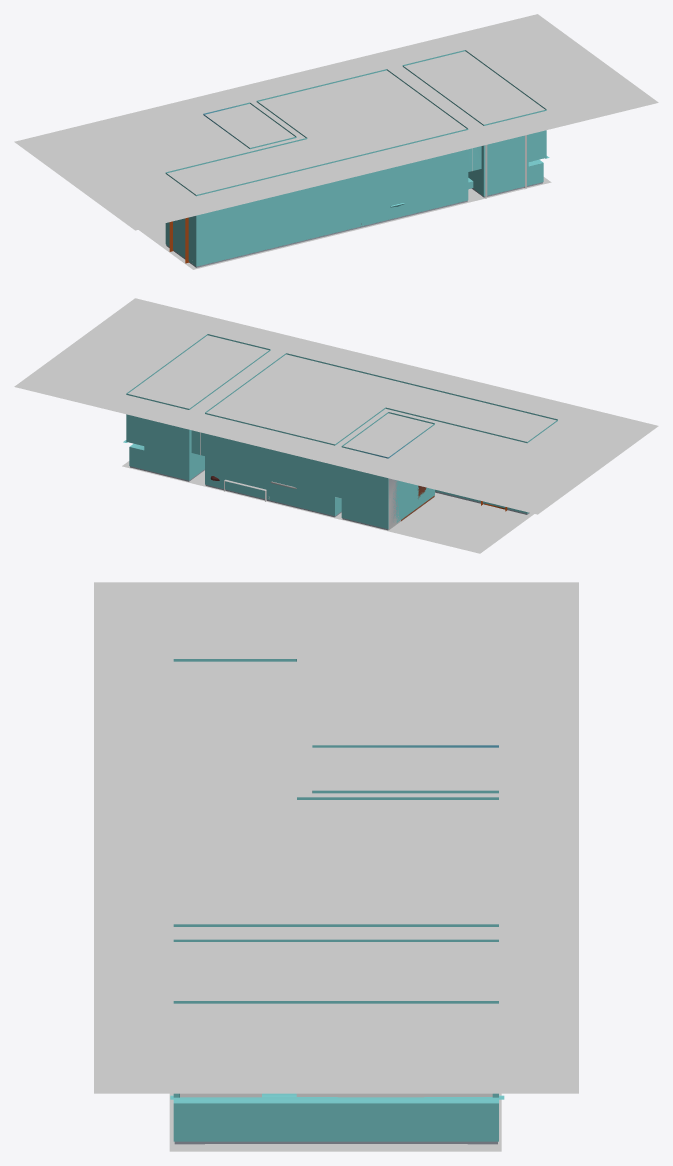
The picture shows the model from 3 angles, top to bottom: view 1: azimuth 30°, elevation 25°; view 2: azimuth 150°, elevation 25°; view 3: azimuth 270°, elevation 25°; orthographic projection. The views are drawn at different scales.
Parts seen in each view (by area): view 1: Floor.001, Walls, Floor; view 2: Floor.001, Walls, Floor, Fridge; view 3: Floor.001, Walls, Floor.
Part boxes in pixels (x1,y1,x2,y2): Floor.001: (14,14,658,230); Walls: (165,50,549,267); Floor: (138,177,551,269); Floor.001: (14,298,658,514); Walls: (123,334,557,530); Floor: (122,461,533,553); Fridge: (388,478,400,529); Floor.001: (94,582,578,1093); Walls: (170,659,504,1144); Floor: (169,1093,501,1151).
Bounding box in the file's own units: 1872 × 257 × 750.
